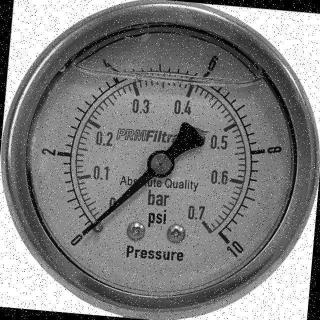gauge: (2, 0, 320, 320), (207, 217, 248, 267), (67, 216, 97, 254), (147, 149, 176, 178), (79, 222, 97, 239)
